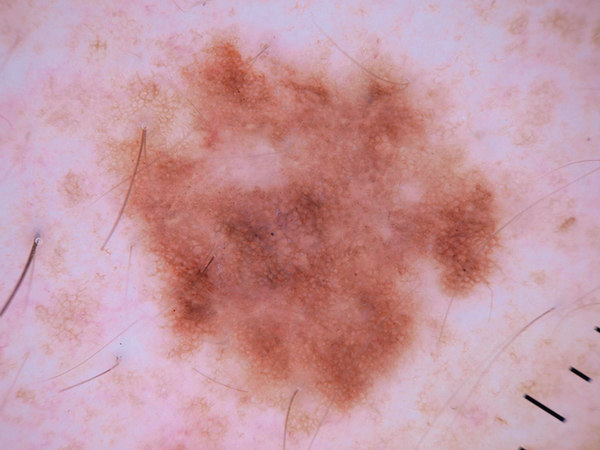Detected Lesion: (110, 44, 502, 417)
